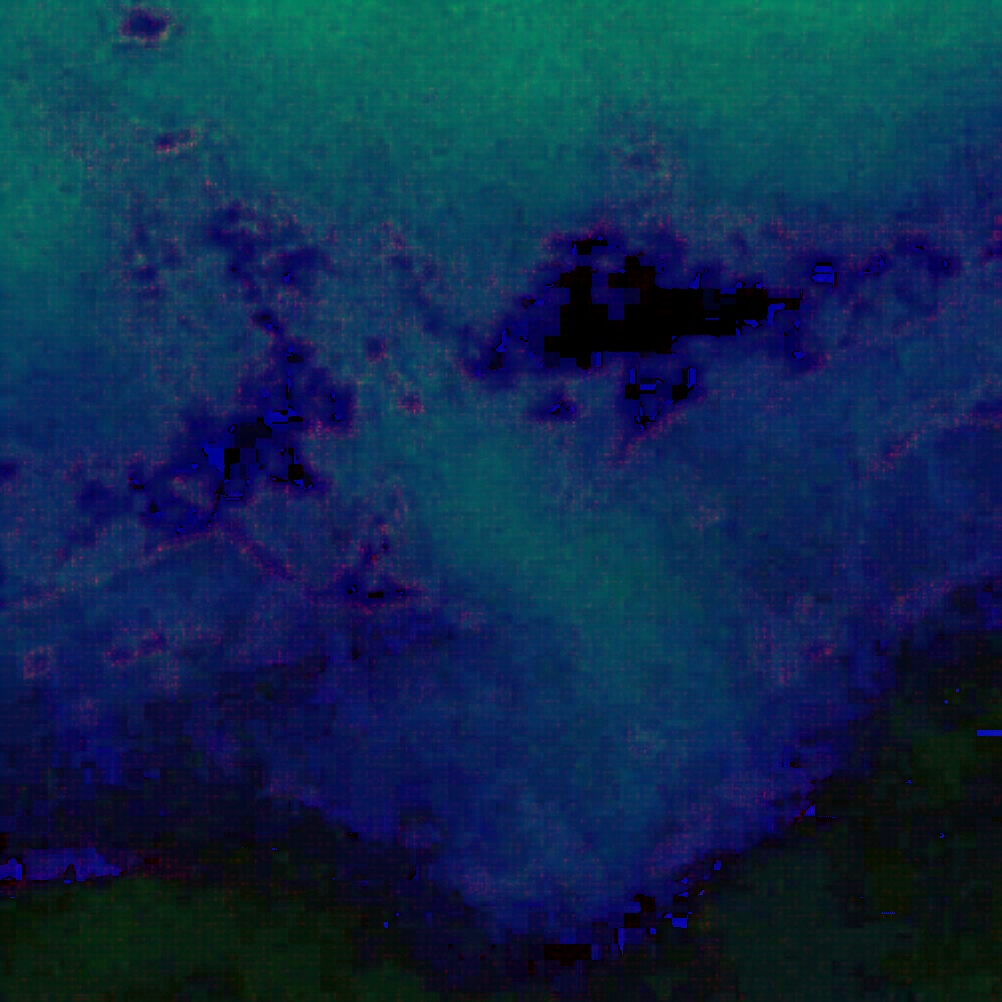rip_current: (86, 140, 772, 824)
